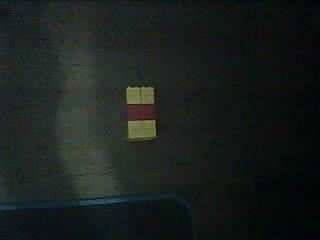lego: (126, 85, 156, 139)
